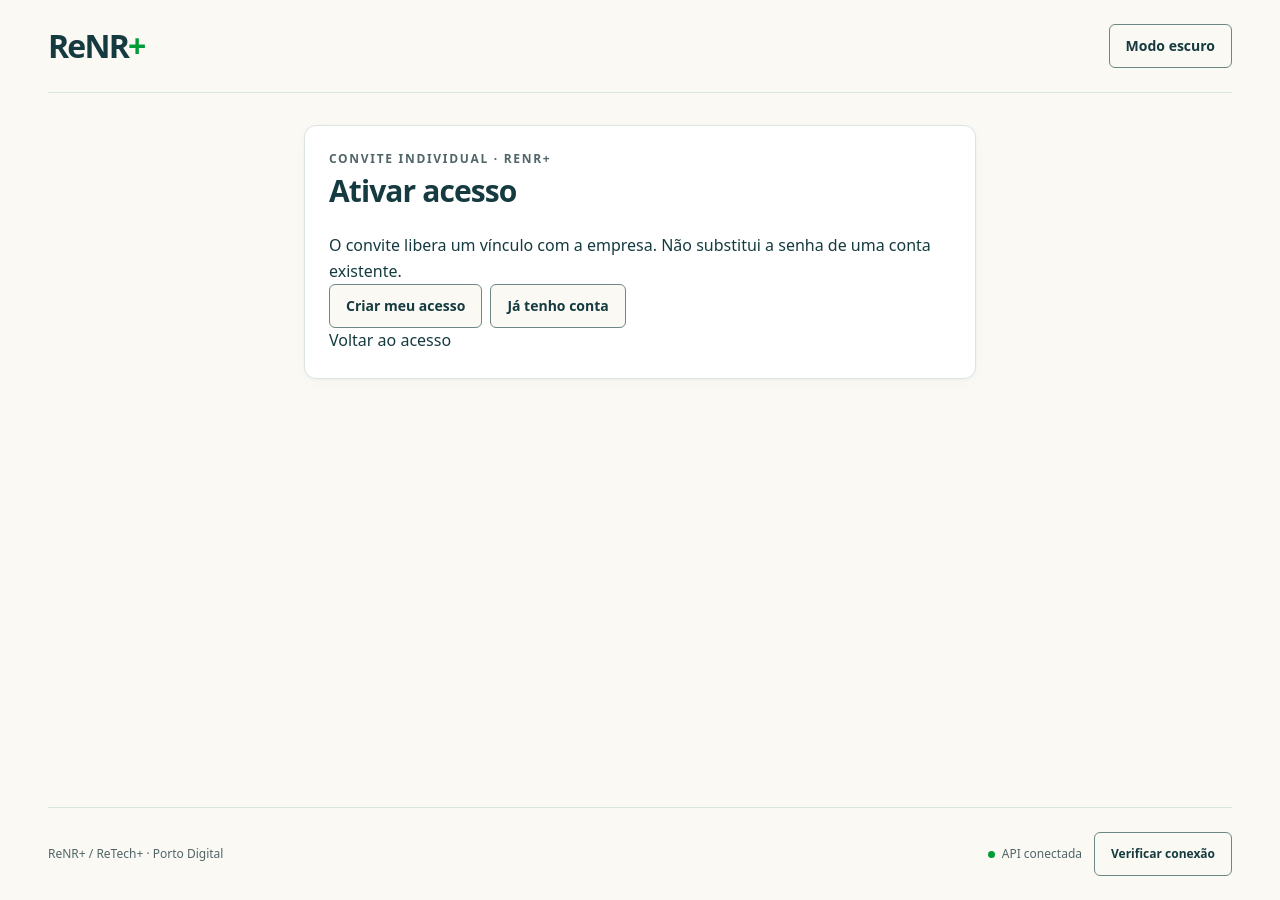
Test: remove token da URL (#/ativar/) antes de ativar nova conta e não o persiste
Click the button "Criar meu acesso" at (406,306), box [329,284,482,328]
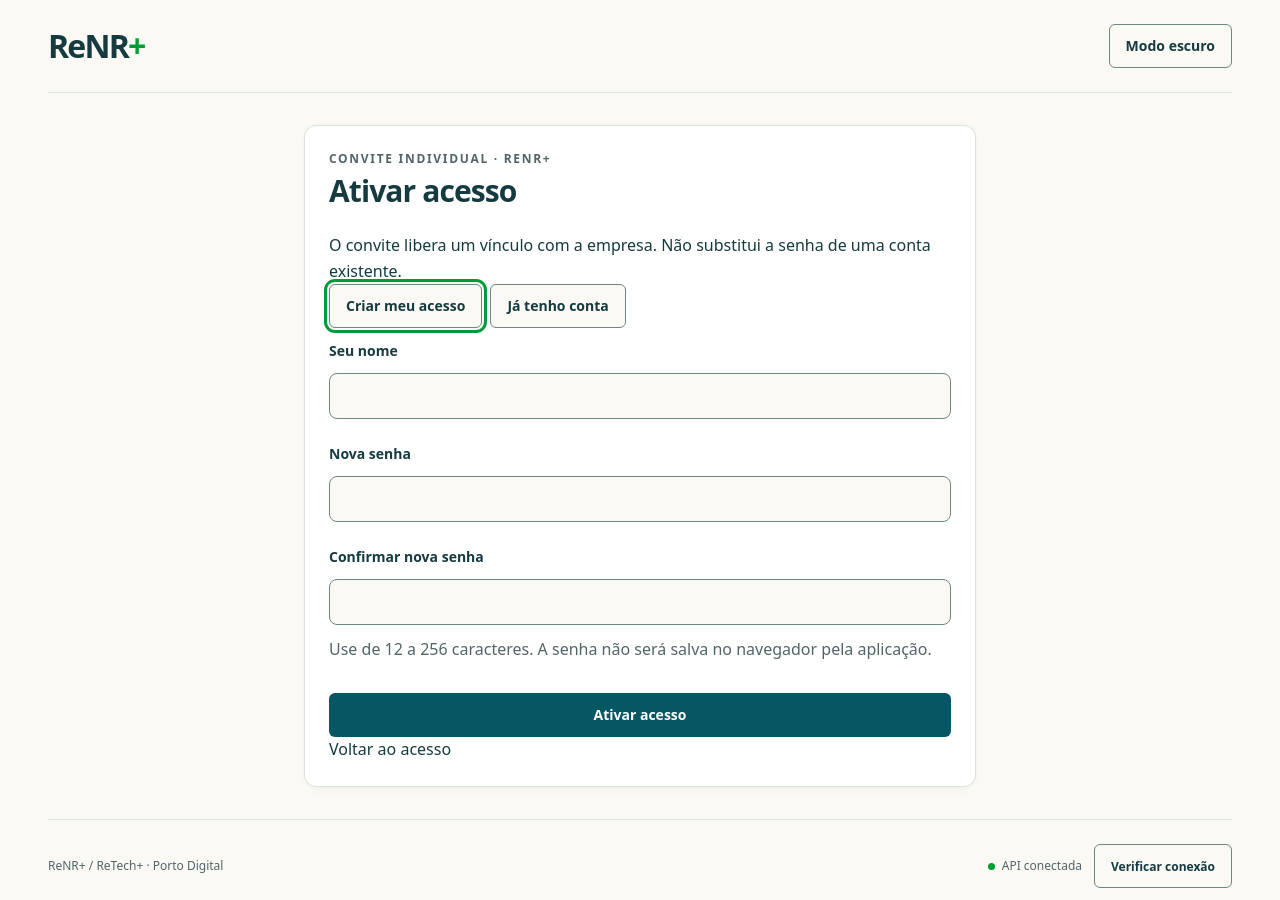
Type "Nova pessoa" into the field labelled "Seu nome" at (640,396), box [329,373,951,419]
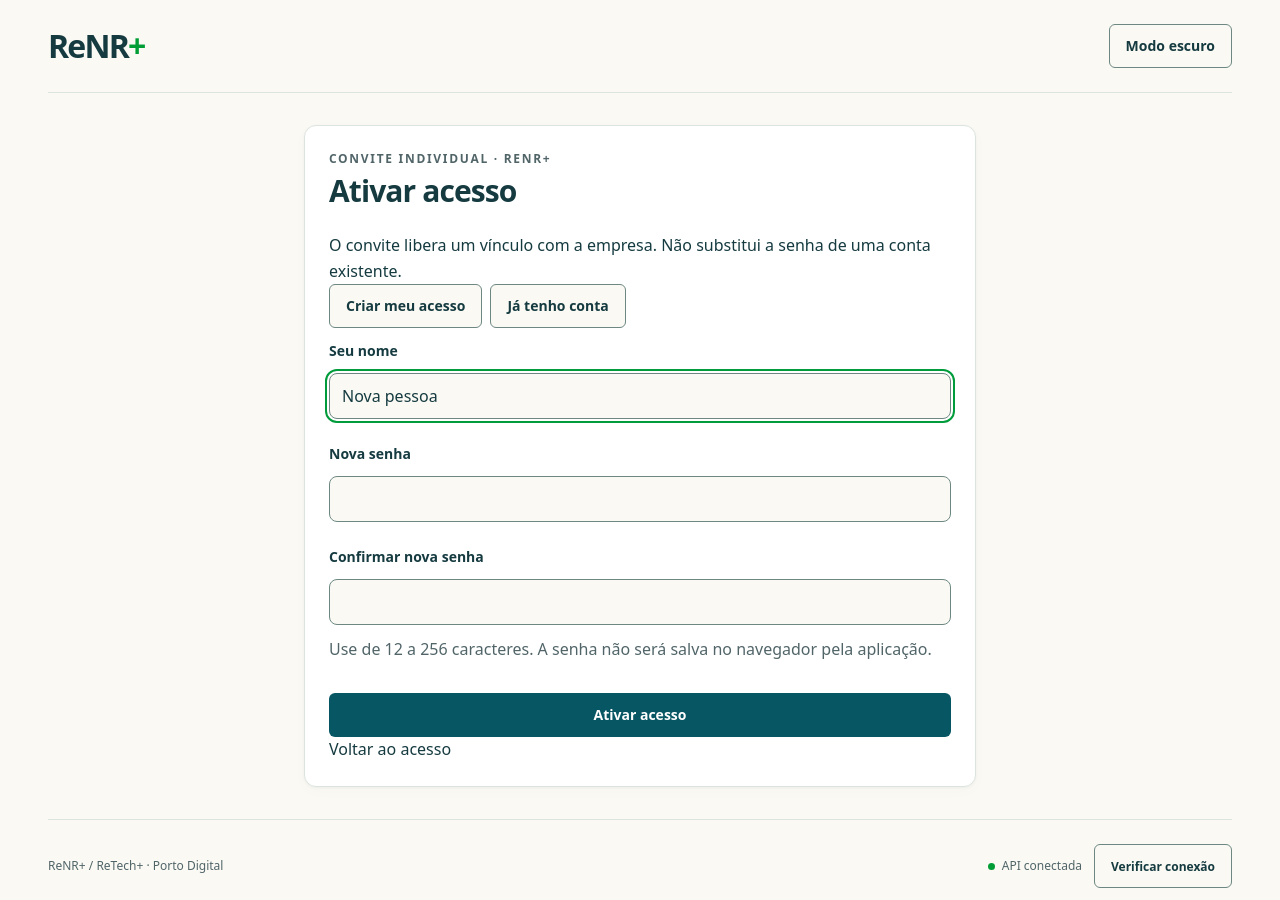
Type "SyntheticPass123!" into the password field labelled "Nova senha" at (640,499), box [329,476,951,522]
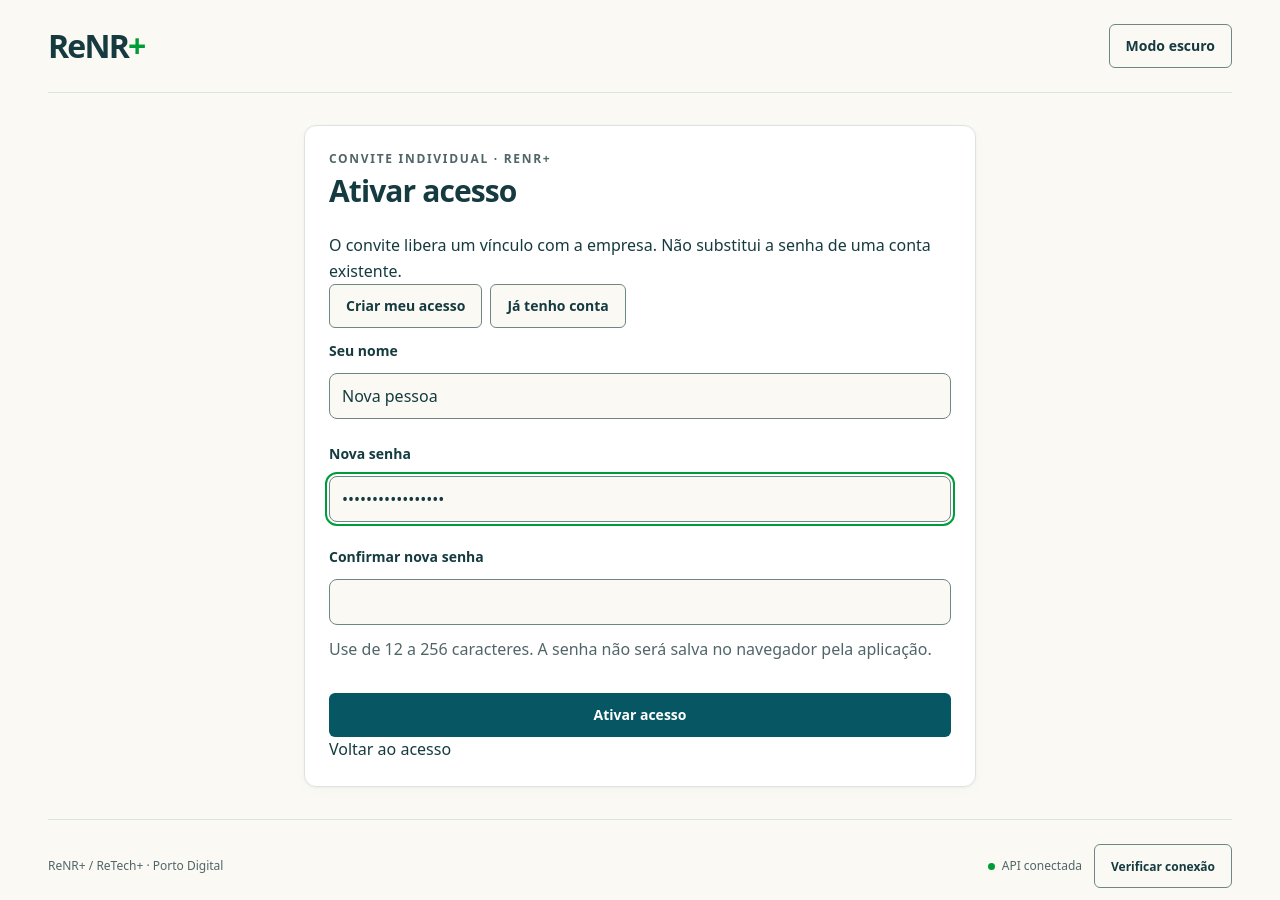
Type "SyntheticPass123!" into the password field labelled "Confirmar nova senha" at (640,602), box [329,579,951,625]
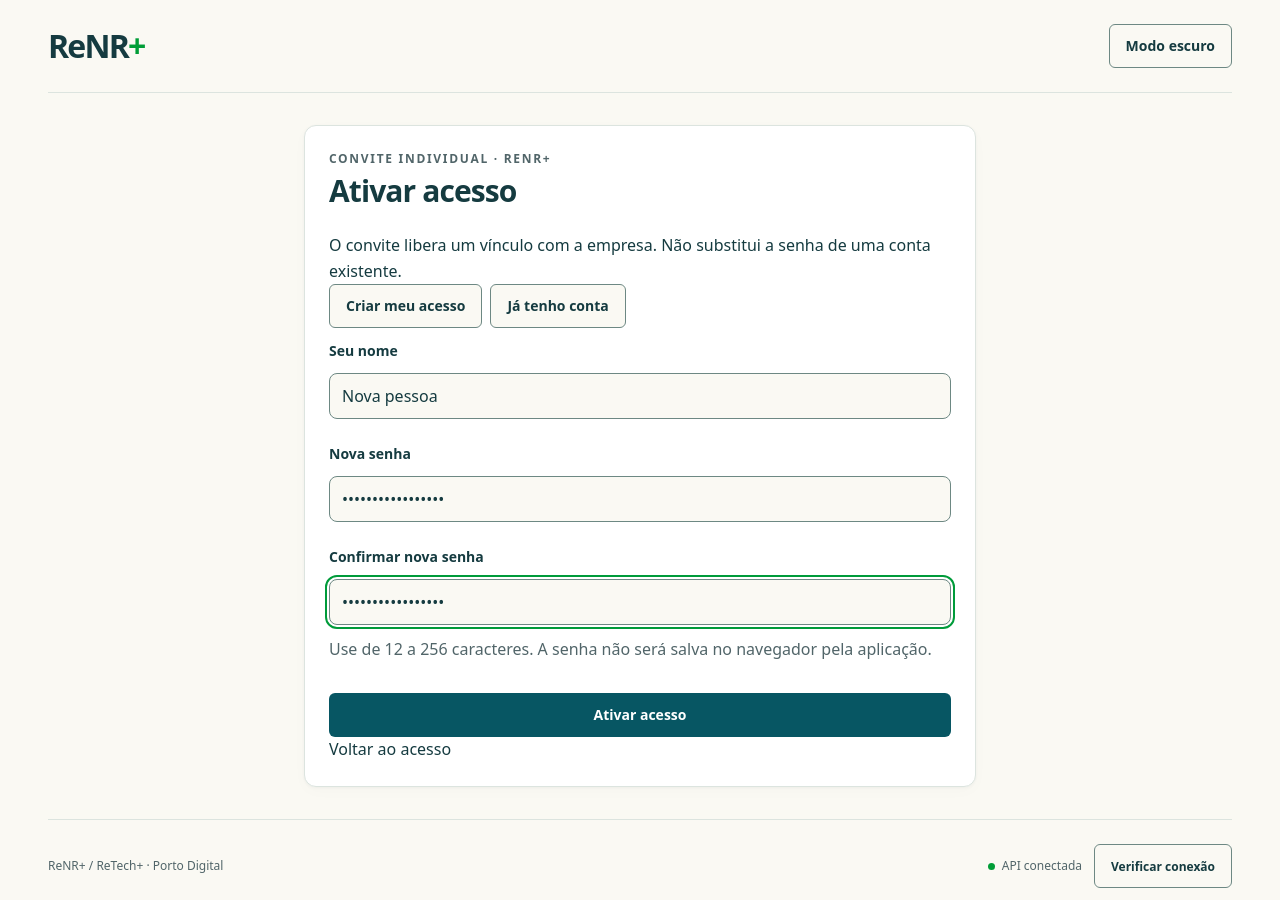
Click the button "Ativar acesso" at (640,715), box [329,693,951,737]
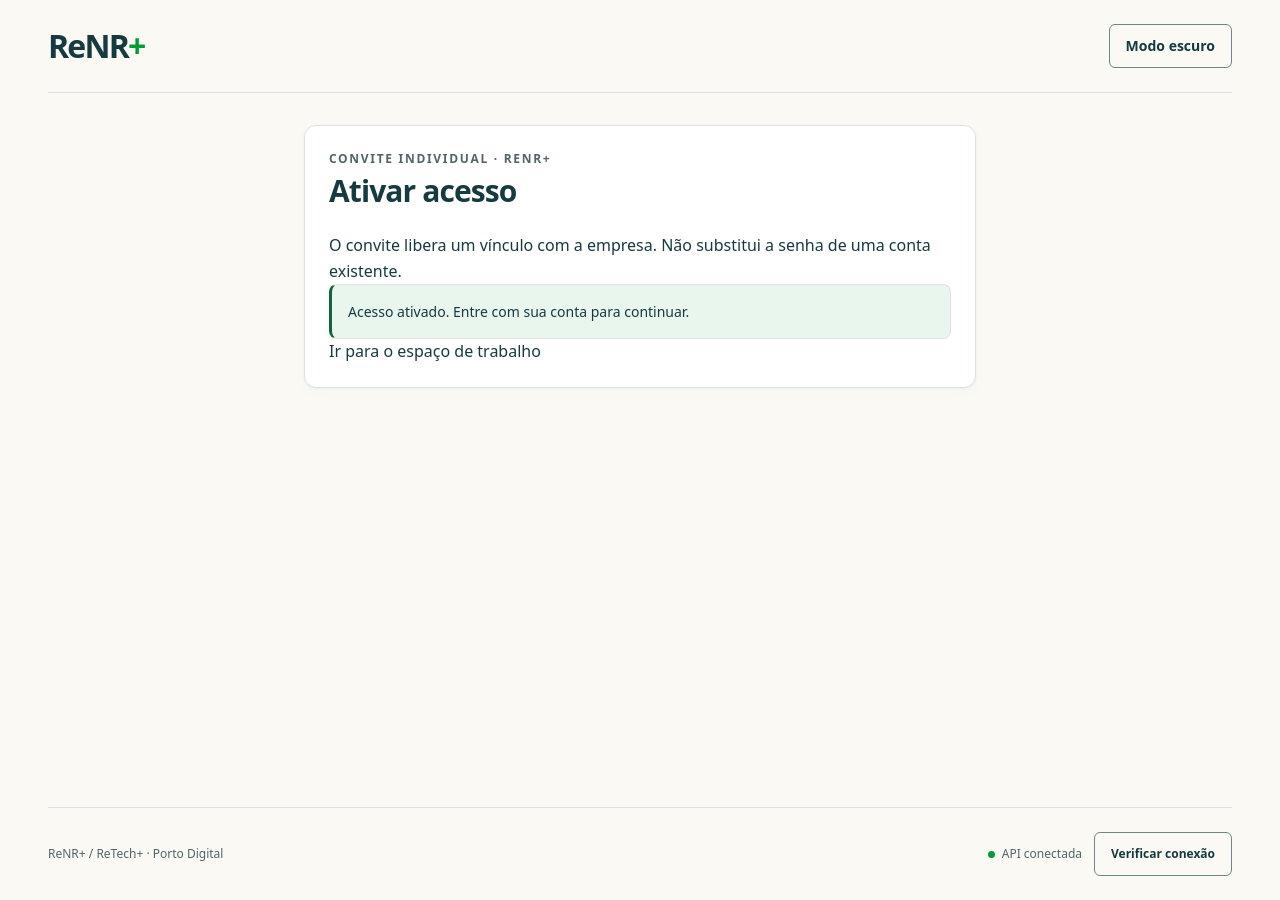
Expected: the text "Acesso ativado. Entre com sua conta para continuar." is shown, [329,284,951,339]
